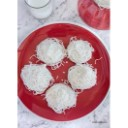idiyappam: (33, 37, 69, 65), (19, 64, 52, 93), (68, 62, 97, 91), (47, 84, 74, 113), (67, 37, 94, 65)
